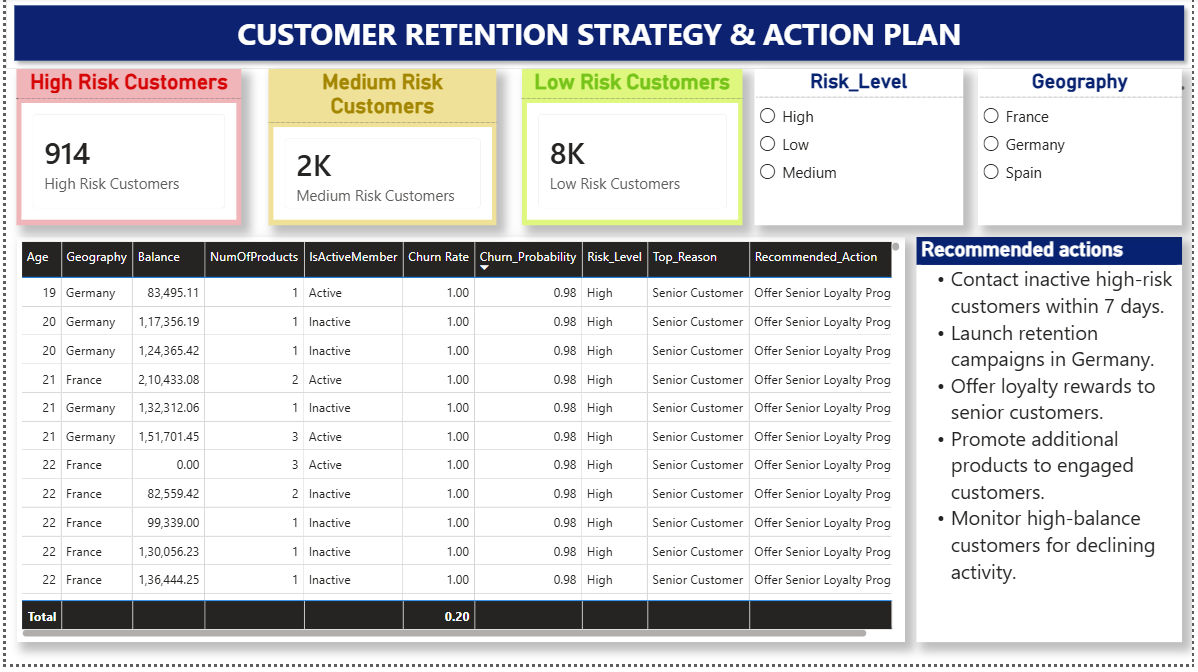

The page's visual inventory and layout, read from the dashboard file:
{"tool":"powerbi","page":{"name":"Page 3","canvas":[1280,720],"ordinal":2},"visuals":[{"type":"shape","box":[0,0,1280.8,77.7],"z":0},{"type":"cardVisual","title":"High Risk Customers","fields":{"Data":["Churn_Playbook.High Risk Customers"]},"box":[11.3,77.7,242.9,168.4],"z":1000},{"type":"cardVisual","title":"Medium Risk Customers","fields":{"Data":["Churn_Playbook.Medium Risk Customers"]},"box":[283.4,77.7,246.1,168.4],"z":2000},{"type":"cardVisual","title":"Low Risk Customers","fields":{"Data":["Churn_Playbook.Low Risk Customers"]},"box":[557,77.7,238,168.4],"z":3000},{"type":"tableEx","fields":{"Values":["Churn_Modelling_Cleaned_data.Age","Churn_Modelling_Cleaned_data.Geography","Churn_Modelling_Cleaned_data.Balance","Churn_Modelling_Cleaned_data.NumOfProducts","Churn_Modelling_Cleaned_data.IsActiveMember","Churn_Modelling_Cleaned_data.Churn Rate","Churn_Playbook.Churn_Probability","Churn_Playbook.Risk_Level","Churn_Playbook.Top_Reason","Churn_Playbook.Recommended_Action"]},"box":[11.3,259.1,958.6,437.2],"z":4000},{"type":"textbox","title":"Recommended actions","box":[982.9,259.1,286.6,437.2],"z":5000},{"type":"listSlicer","fields":{"Values":["Churn_Playbook.Risk_Level"]},"box":[808,77.7,225.1,168.4],"z":6000},{"type":"listSlicer","fields":{"Values":["Churn_Modelling_Cleaned_data.Geography"]},"box":[1049.3,77.7,220.2,168.4],"z":7000}]}

Visuals, with their boxes in screenshot pixels (x1, y1, x2, y2), scaled from the page's 1280x720 canvas onto the 1198x672 screenshot:
shape: [0, 0, 1197, 73]
"High Risk Customers" cardVisual: [11, 73, 238, 230]
"Medium Risk Customers" cardVisual: [265, 73, 496, 230]
"Low Risk Customers" cardVisual: [521, 73, 744, 230]
tableEx - Churn_Modelling_Cleaned_data.Age x Churn_Modelling_Cleaned_data.Geography: [11, 242, 908, 650]
"Recommended actions" textbox: [920, 242, 1188, 650]
listSlicer - Churn_Playbook.Risk_Level: [756, 73, 967, 230]
listSlicer - Churn_Modelling_Cleaned_data.Geography: [982, 73, 1188, 230]
